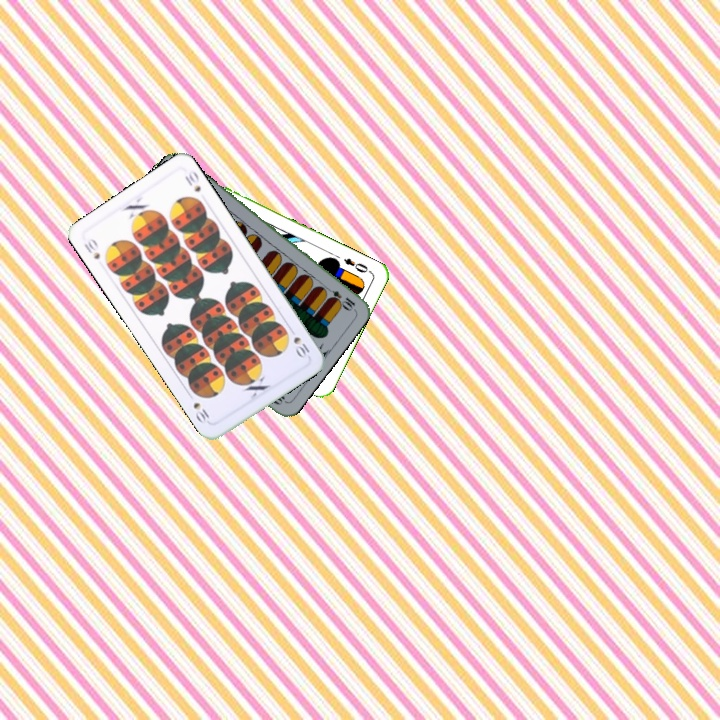E10: (321, 282, 358, 312)
EO: (339, 254, 374, 275)
S10: (285, 323, 312, 361), (80, 234, 103, 262)
